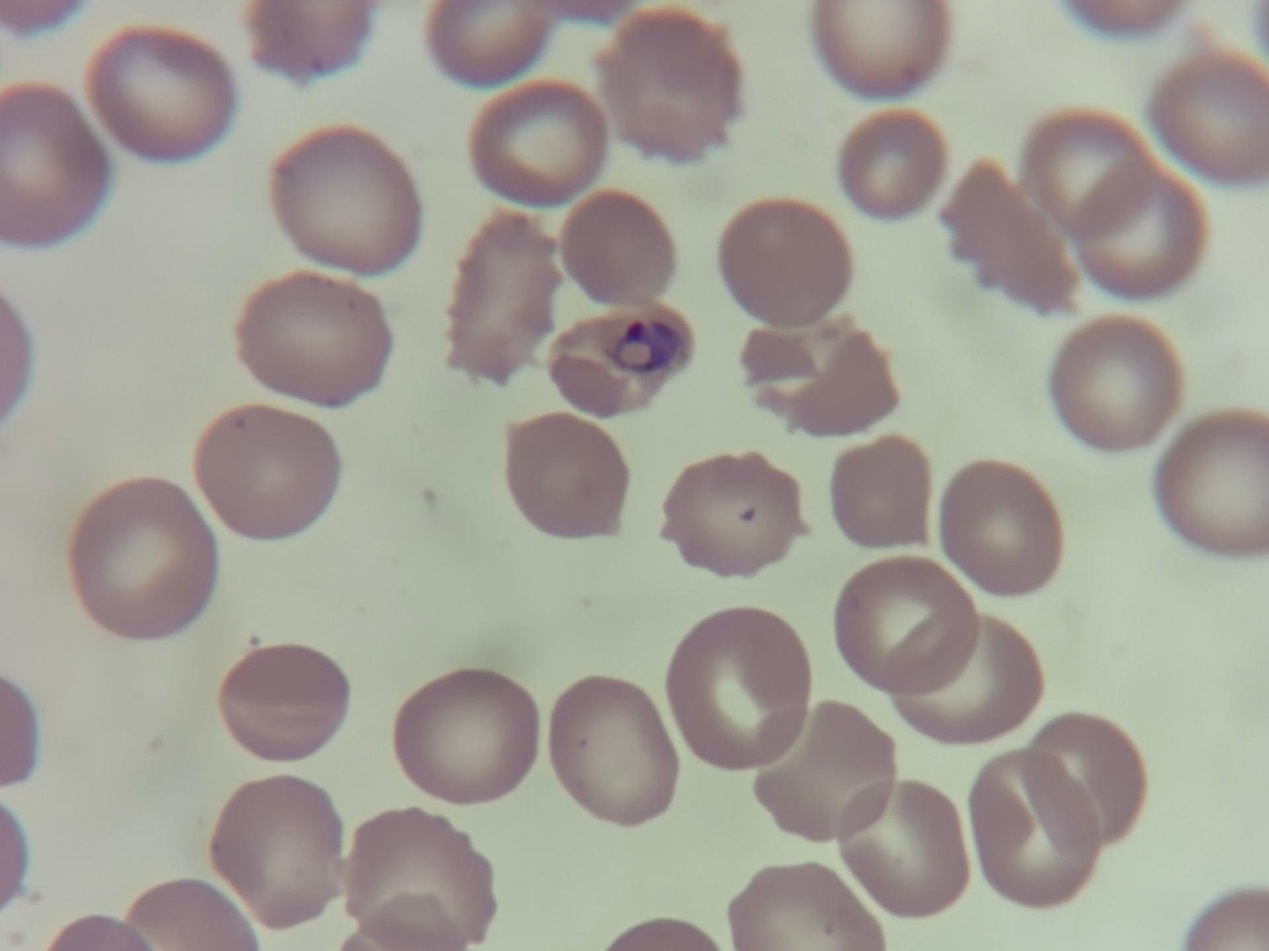Infected: (546, 300, 695, 425)
Uninfected: (70, 477, 220, 644), (950, 155, 1088, 317), (269, 126, 423, 271), (674, 607, 805, 775), (745, 695, 894, 837), (590, 16, 742, 155), (886, 615, 1044, 747), (346, 807, 489, 951), (392, 666, 533, 809), (551, 675, 676, 834), (88, 27, 236, 155), (1049, 309, 1181, 452), (969, 759, 1097, 906), (242, 278, 386, 408), (747, 318, 903, 437), (833, 785, 975, 915), (196, 406, 335, 537), (500, 410, 633, 546), (0, 82, 112, 242), (211, 781, 336, 924), (454, 206, 557, 378), (471, 82, 611, 204), (1154, 410, 1269, 558), (842, 560, 971, 691), (1031, 102, 1160, 232), (723, 192, 846, 326), (663, 455, 806, 568), (1071, 168, 1199, 293), (1031, 712, 1141, 856), (941, 457, 1060, 590), (220, 648, 354, 762), (1148, 56, 1269, 182), (817, 0, 952, 99), (566, 188, 674, 305), (837, 433, 930, 556), (842, 109, 940, 224)
